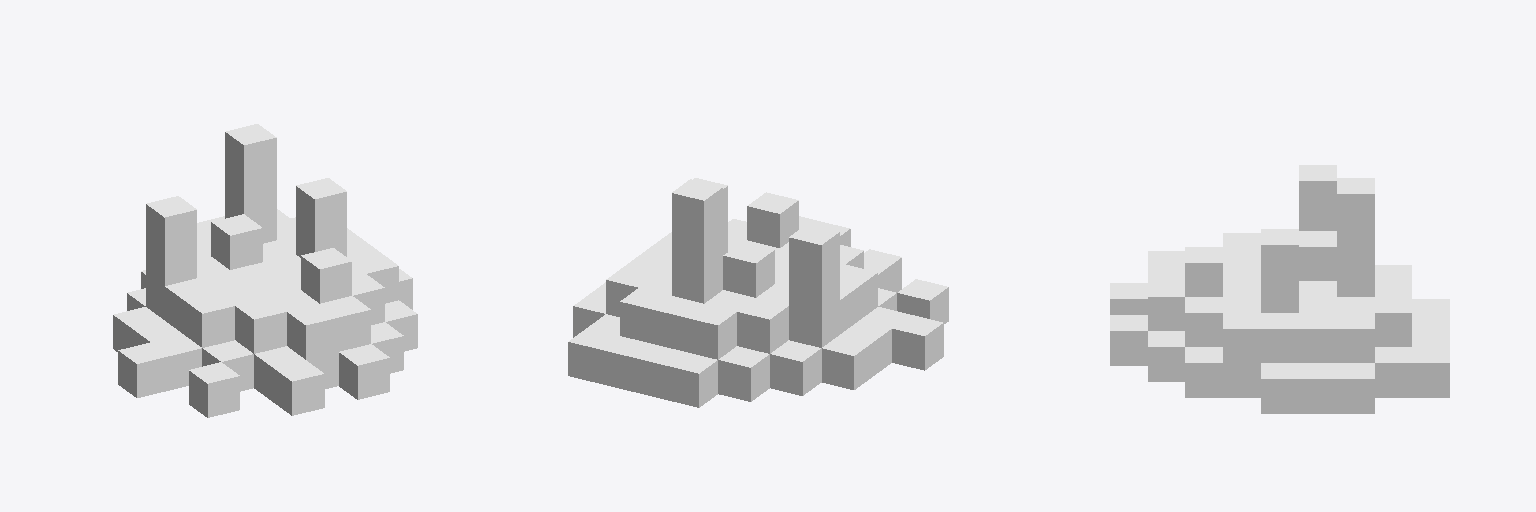
The model's file is scummBarFireFrame3.obj.
3 renders of one model, left to right at view 1: azimuth 30°, elevation 25°; view 2: azimuth 150°, elevation 25°; view 3: azimuth 270°, elevation 25°, orthographic.
Size of the model in its own units: 9 by 5 by 9.